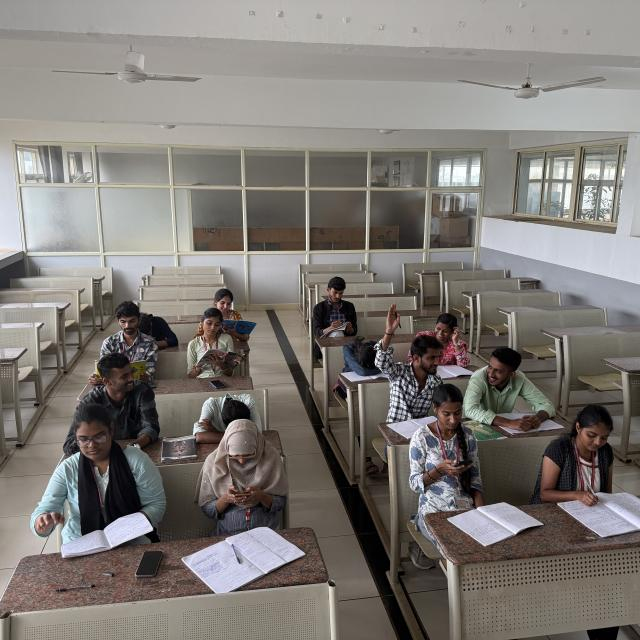Hand Rising: (375, 299, 448, 411)
Reading: (41, 402, 165, 549), (92, 303, 157, 384), (188, 310, 244, 378), (202, 288, 257, 341)
Sleeping: (192, 390, 267, 440), (338, 336, 400, 382), (135, 311, 178, 351)
Using Phone: (194, 424, 288, 532), (407, 381, 485, 501)
Writing: (542, 398, 640, 518), (313, 276, 361, 337)
